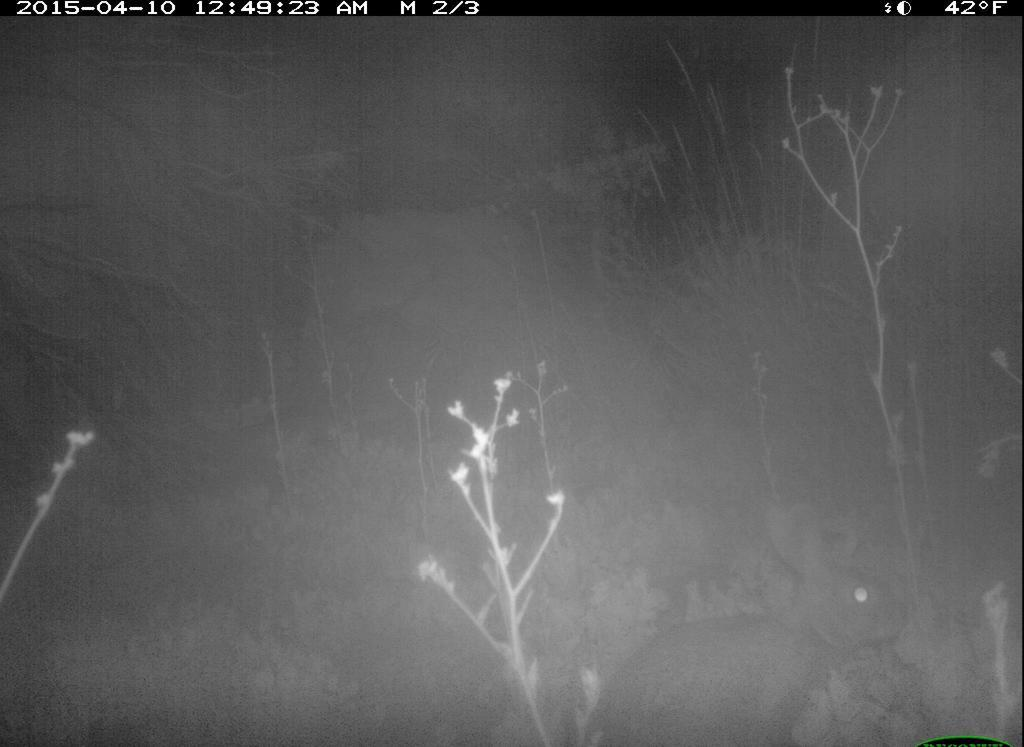rabbit: (565, 496, 911, 745)
